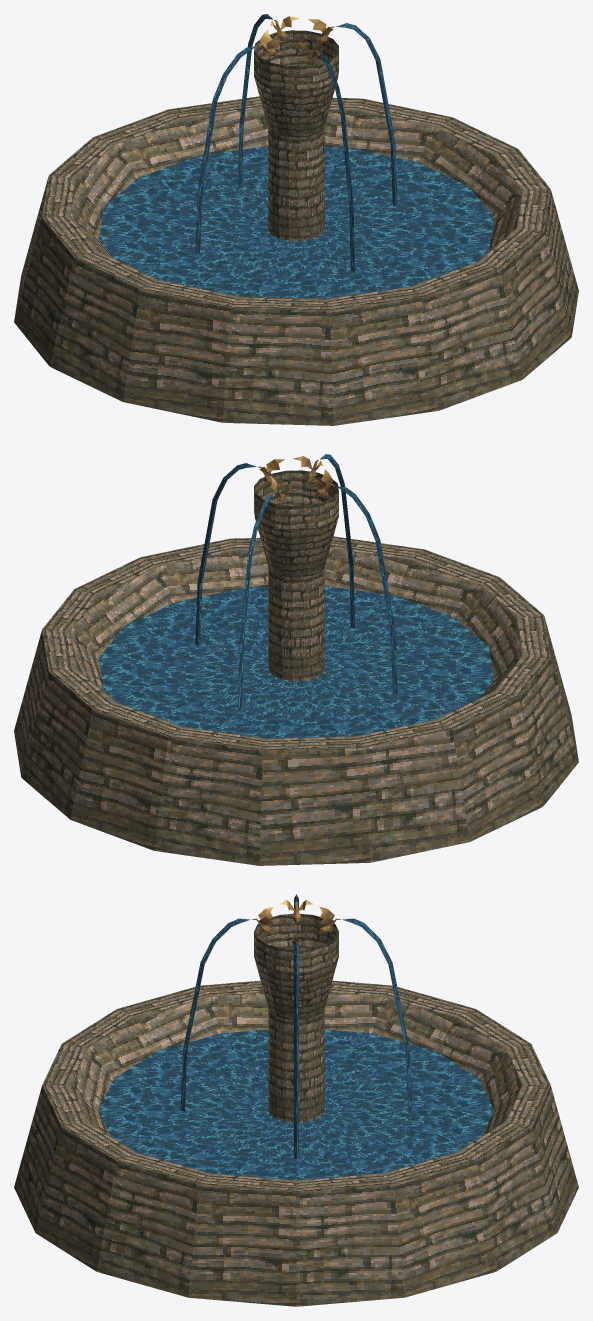
File: Fountain.fbx
The picture shows the model from 3 angles, top to bottom: view 1: azimuth 30°, elevation 25°; view 2: azimuth 150°, elevation 25°; view 3: azimuth 270°, elevation 25°; orthographic projection.
Parts seen in each view (by area): view 1: object0; view 2: object0; view 3: object0.
Boxes of the visible parts, bbox=[...] form: object0: bbox=[14, 14, 578, 425]; object0: bbox=[14, 454, 578, 865]; object0: bbox=[14, 894, 578, 1306].
Bounding box in the file's own units: 512 × 326 × 512.
